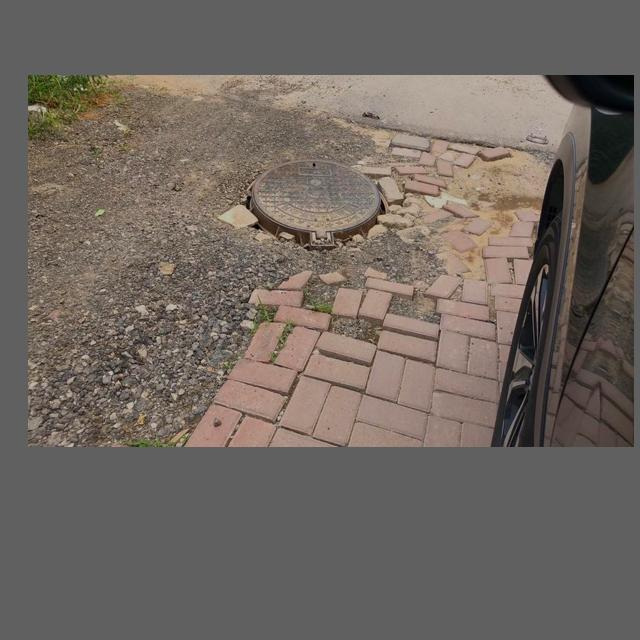circle: (205, 133, 434, 281)
